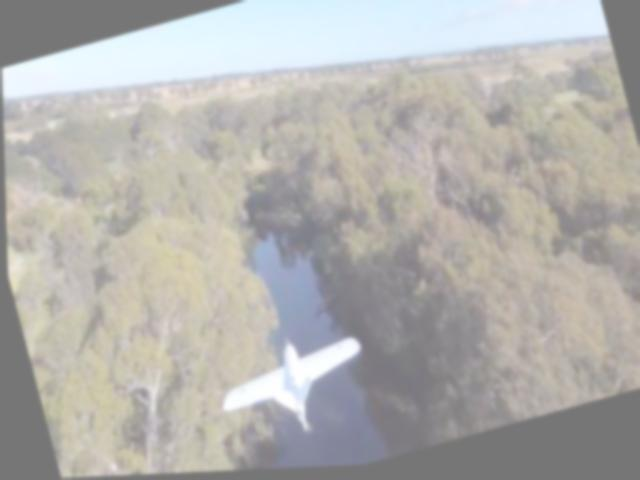uav: (208, 324, 375, 456)
